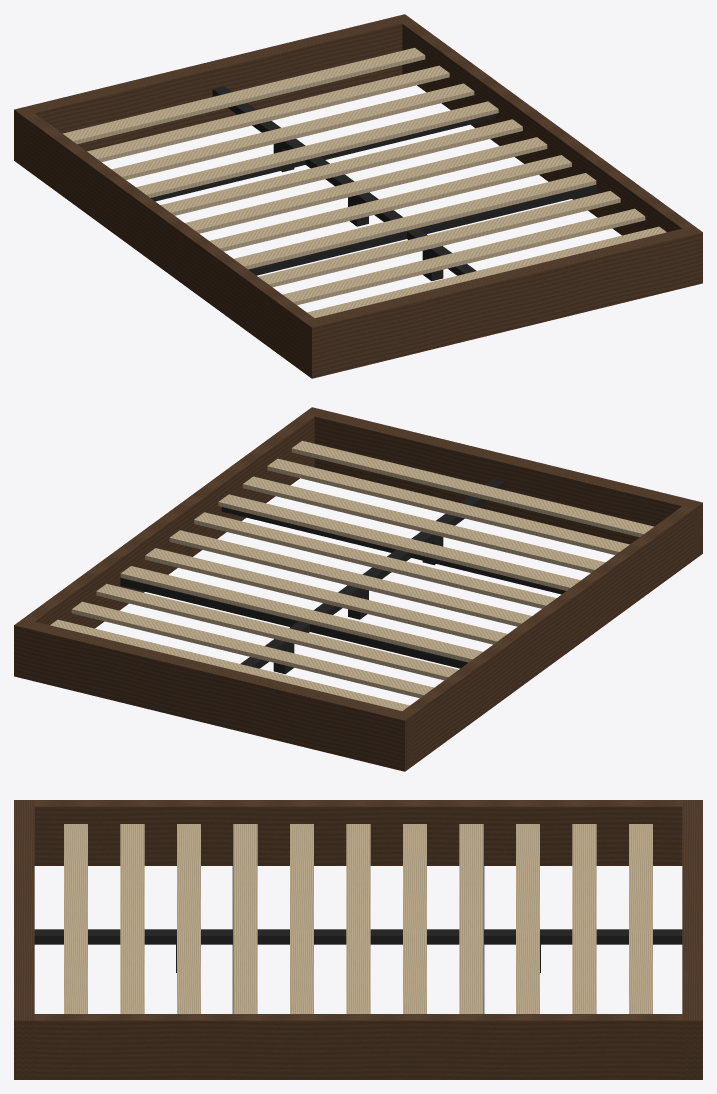
The picture shows the model from 3 angles, top to bottom: view 1: azimuth 30°, elevation 25°; view 2: azimuth 150°, elevation 25°; view 3: azimuth 270°, elevation 25°; orthographic projection. The views are drawn at different scales.
Parts seen in each view (by area): view 1: 1 front_rail, 3 left_rail, 2 back_rail, 4 right_rail, 16 wood_slat_6, 20 wood_slat_10, 13 wood_slat_3, 14 wood_slat_4, 18 wood_slat_8, 19 wood_slat_9, 11 wood_slat_1, 12 wood_slat_2 (+6 smaller); view 2: 2 back_rail, 3 left_rail, 1 front_rail, 4 right_rail, 16 wood_slat_6, 12 wood_slat_2, 13 wood_slat_3, 14 wood_slat_4, 18 wood_slat_8, 19 wood_slat_9, 17 wood_slat_7, 20 wood_slat_10 (+6 smaller); view 3: 4 right_rail, 3 left_rail, 5 center_steel_beam, 1 front_rail, 2 back_rail, 12 wood_slat_2, 14 wood_slat_4, 16 wood_slat_6, 18 wood_slat_8, 20 wood_slat_10, 11 wood_slat_1, 13 wood_slat_3 (+4 smaller).
Part boxes in pixels (x1,y1,x2,y2): 1 front_rail: (303, 226, 702, 378); 3 left_rail: (23, 113, 314, 371); 2 back_rail: (14, 14, 413, 166); 4 right_rail: (402, 20, 693, 235); 16 wood_slat_6: (185, 137, 547, 233); 20 wood_slat_10: (283, 208, 645, 305); 13 wood_slat_3: (112, 83, 474, 179); 14 wood_slat_4: (136, 101, 498, 197); 18 wood_slat_8: (234, 173, 596, 269); 19 wood_slat_9: (258, 191, 620, 287); 11 wood_slat_1: (63, 47, 425, 144); 12 wood_slat_2: (87, 65, 449, 161); 2 back_rail: (14, 619, 413, 771); 3 left_rail: (402, 506, 693, 764); 1 front_rail: (303, 407, 702, 559); 4 right_rail: (23, 413, 314, 628); 16 wood_slat_6: (169, 530, 531, 626); 12 wood_slat_2: (71, 601, 433, 698); 13 wood_slat_3: (96, 584, 458, 680); 14 wood_slat_4: (120, 566, 482, 662); 18 wood_slat_8: (218, 494, 580, 590); 19 wood_slat_9: (242, 476, 604, 572); 17 wood_slat_7: (194, 512, 556, 608); 20 wood_slat_10: (267, 458, 629, 554); 4 right_rail: (34, 1014, 682, 1079); 3 left_rail: (34, 800, 682, 865); 5 center_steel_beam: (34, 929, 682, 944); 1 front_rail: (14, 800, 34, 1079); 2 back_rail: (682, 800, 702, 1079); 12 wood_slat_2: (572, 824, 596, 1013); 14 wood_slat_4: (459, 824, 483, 1013); 16 wood_slat_6: (346, 824, 370, 1013); 18 wood_slat_8: (233, 824, 257, 1013); 20 wood_slat_10: (120, 824, 144, 1013); 11 wood_slat_1: (629, 824, 652, 1013); 13 wood_slat_3: (516, 824, 539, 1013).
Size of the model in its own units: 8 by 1 by 10.56.
3 materials, 2 textured.
